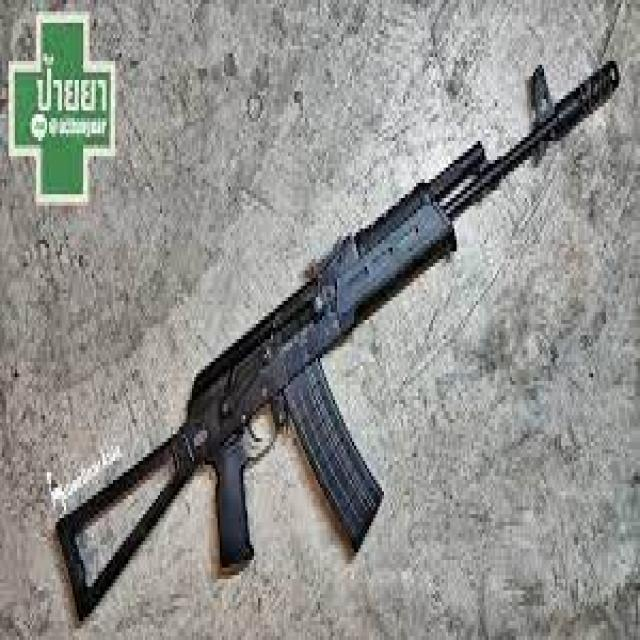weapon: (56, 60, 622, 626)
